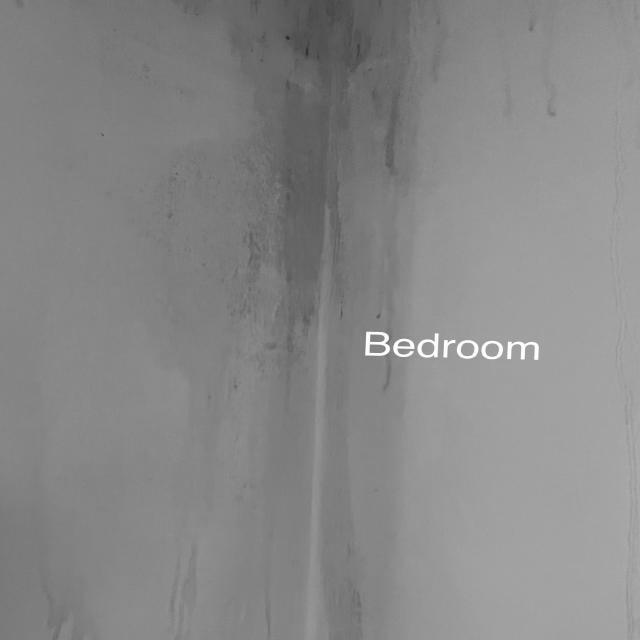stain marks: (110, 132, 445, 331), (137, 324, 300, 638), (225, 0, 445, 132), (303, 329, 376, 632), (481, 0, 579, 133), (381, 336, 409, 634), (20, 551, 93, 640), (159, 0, 223, 49)
